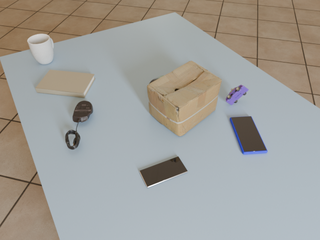book: (35, 70, 95, 98)
box: (147, 61, 221, 136)
cup: (28, 34, 53, 64)
mouse: (73, 101, 93, 122)
phone: (140, 157, 188, 188), (230, 116, 267, 154)
toy_car: (226, 85, 248, 105)
